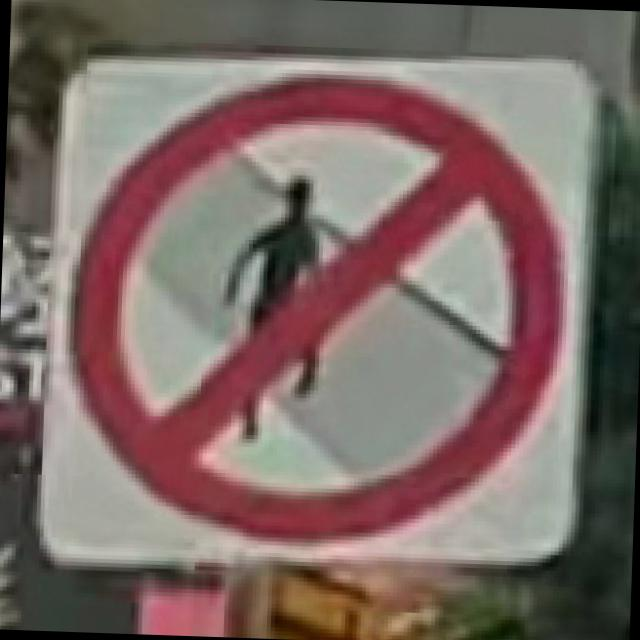nojaywalking_sign: (26, 37, 602, 587)
